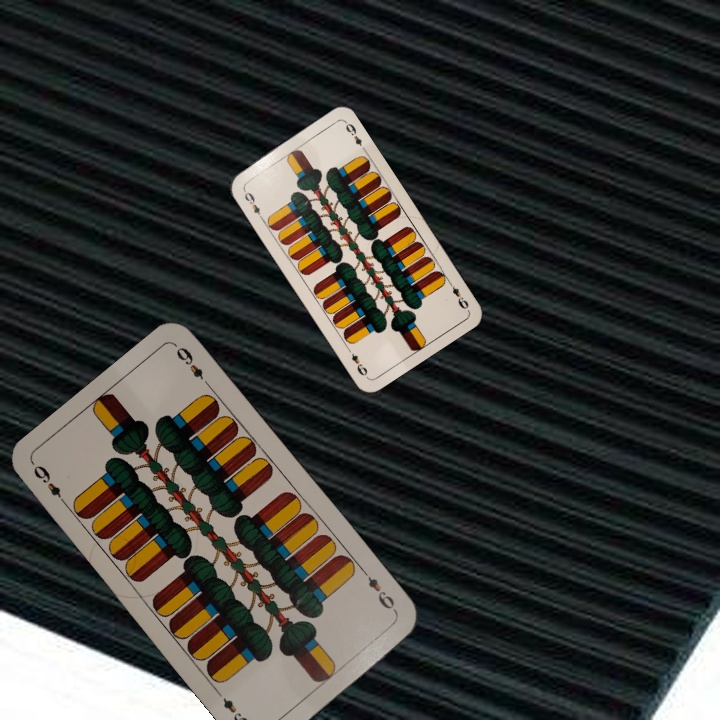E9: (358, 565, 400, 615), (29, 461, 71, 510), (444, 276, 471, 312), (239, 185, 265, 222)
